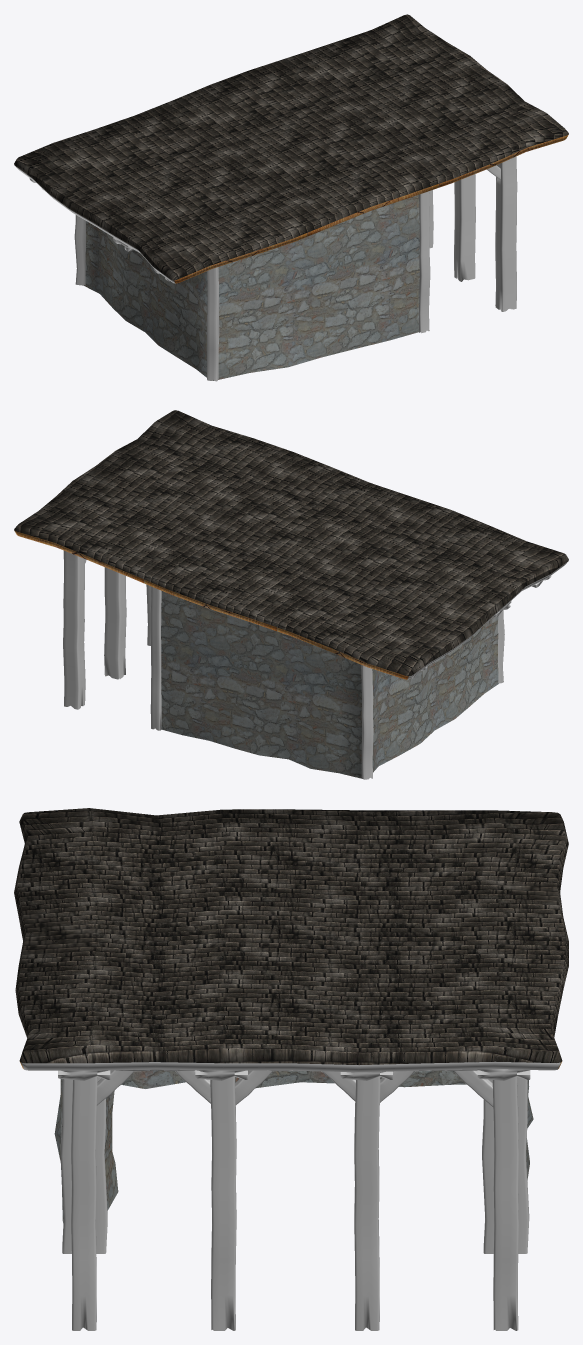
File: cowShed_OneMesh.fbx
3 renders of one model, top to bottom at view 1: azimuth 30°, elevation 25°; view 2: azimuth 150°, elevation 25°; view 3: azimuth 270°, elevation 25°, orthographic. The views are drawn at different scales.
Visible parts, largest first — view 1: Cube.000; view 2: Cube.000; view 3: Cube.000.
Part boxes in pixels (x1=…): Cube.000: x1=14, y1=14, x2=568, y2=381; Cube.000: x1=14, y1=410, x2=568, y2=779; Cube.000: x1=14, y1=808, x2=568, y2=1330.
Size of the model in its own units: 1529 by 664 by 1074.
